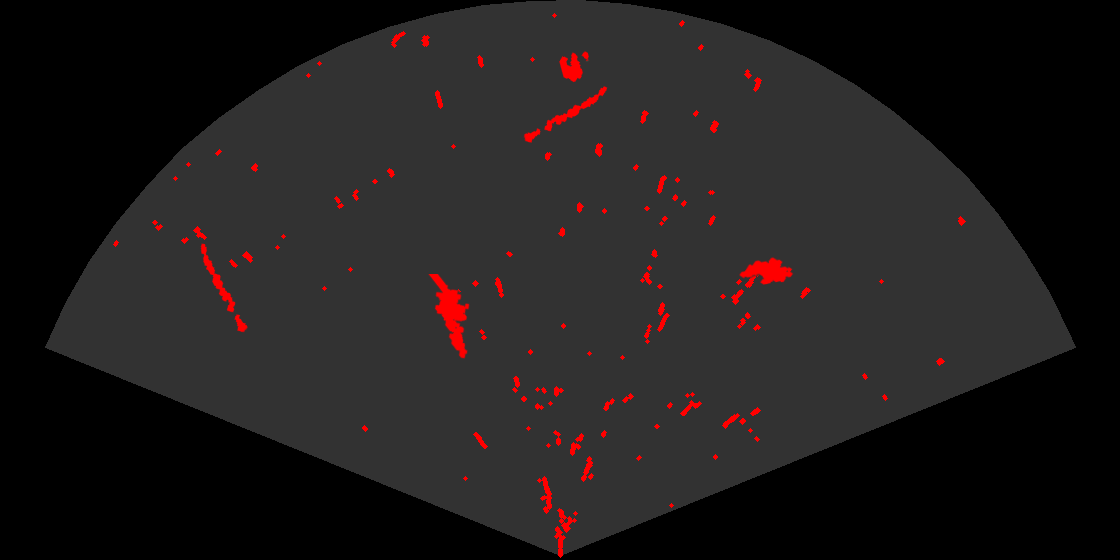AUV: (738, 256, 795, 286)
ball: (558, 50, 590, 84)
chain: (522, 85, 609, 144), (199, 242, 249, 334)
frogman: (426, 274, 471, 360)
